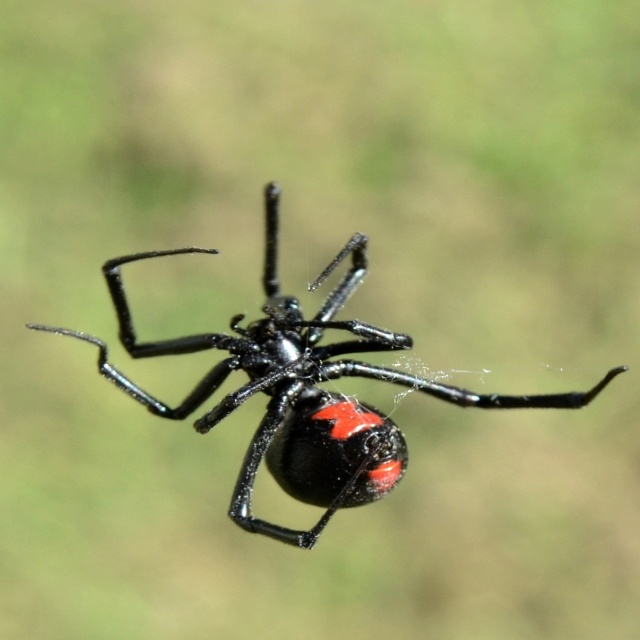Spider: (25, 181, 629, 550)
